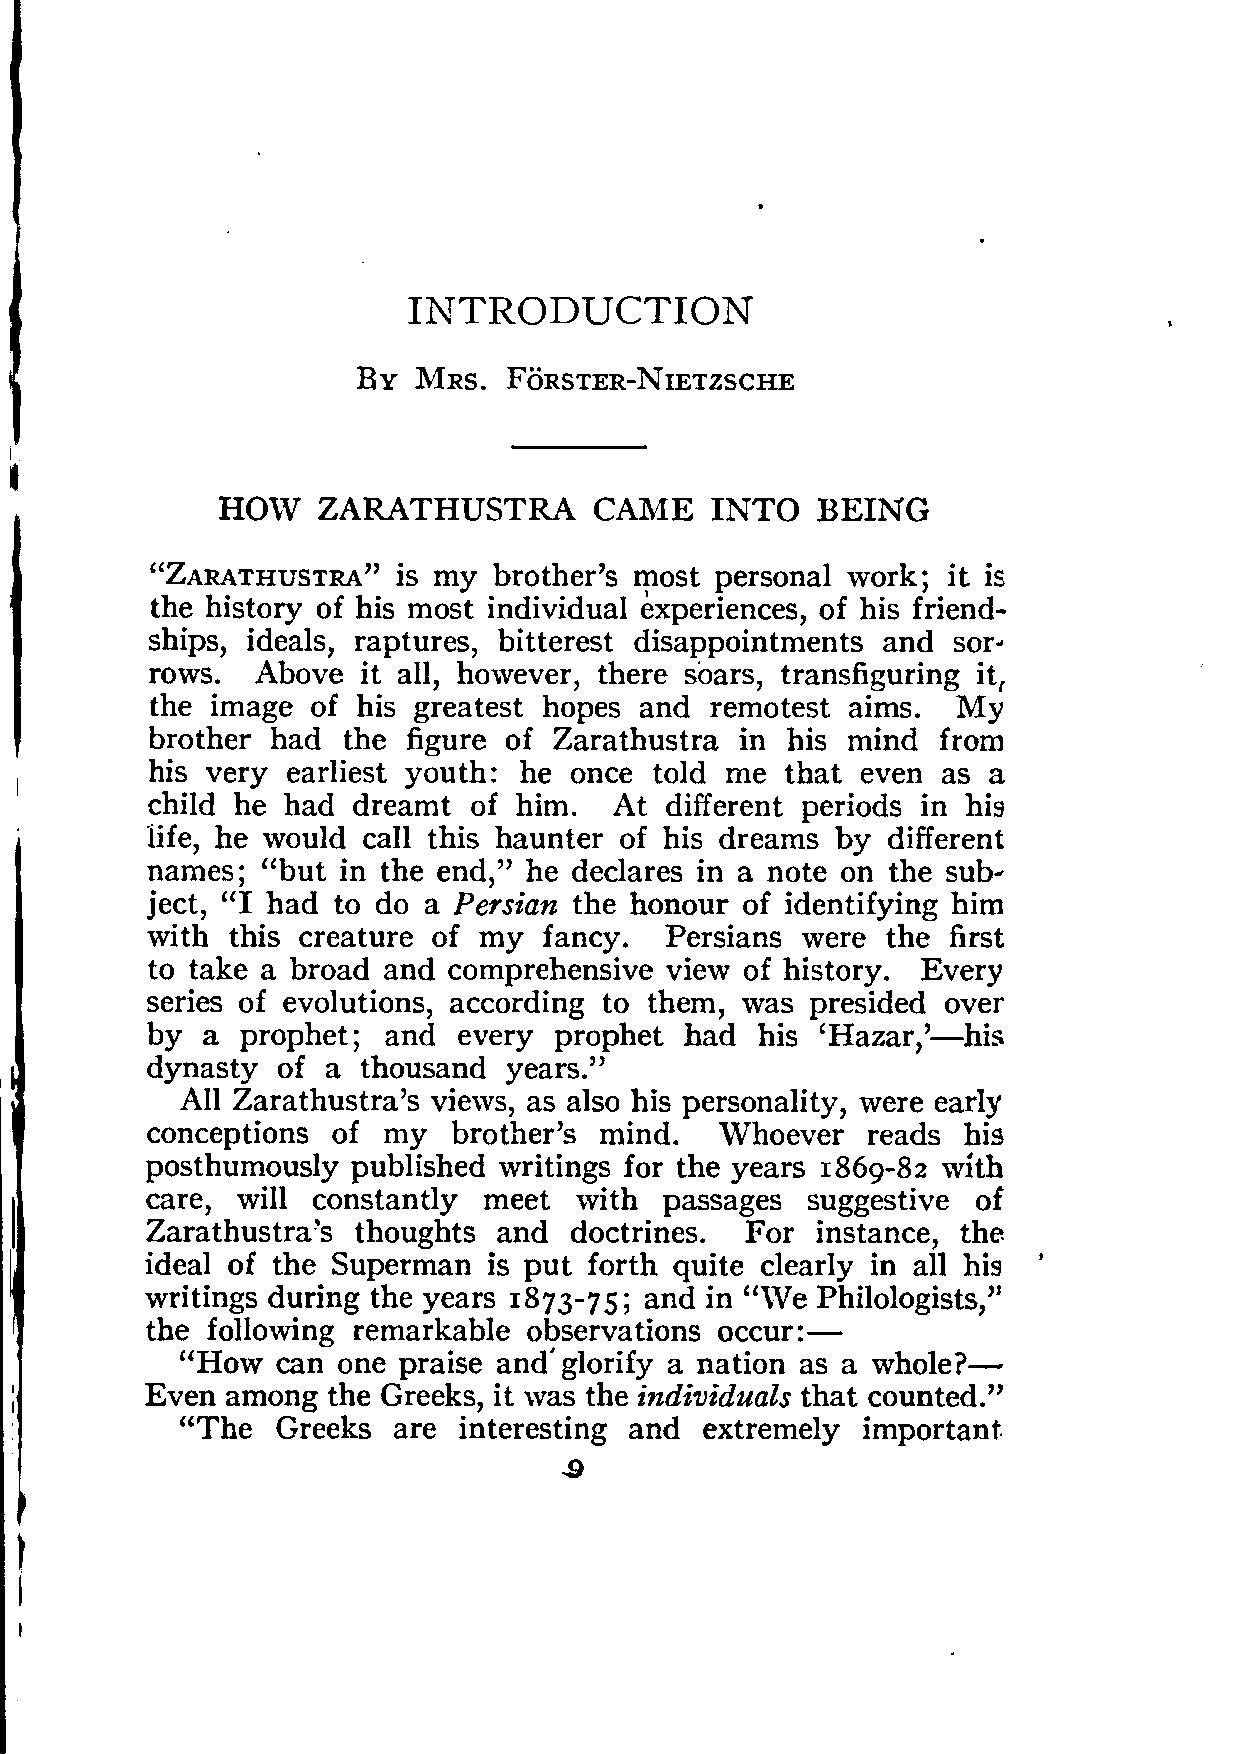chapter: (354, 293, 797, 391), (215, 493, 929, 523)
content: (144, 557, 1006, 1449)
content_pagenumber: (560, 1456, 586, 1482)
